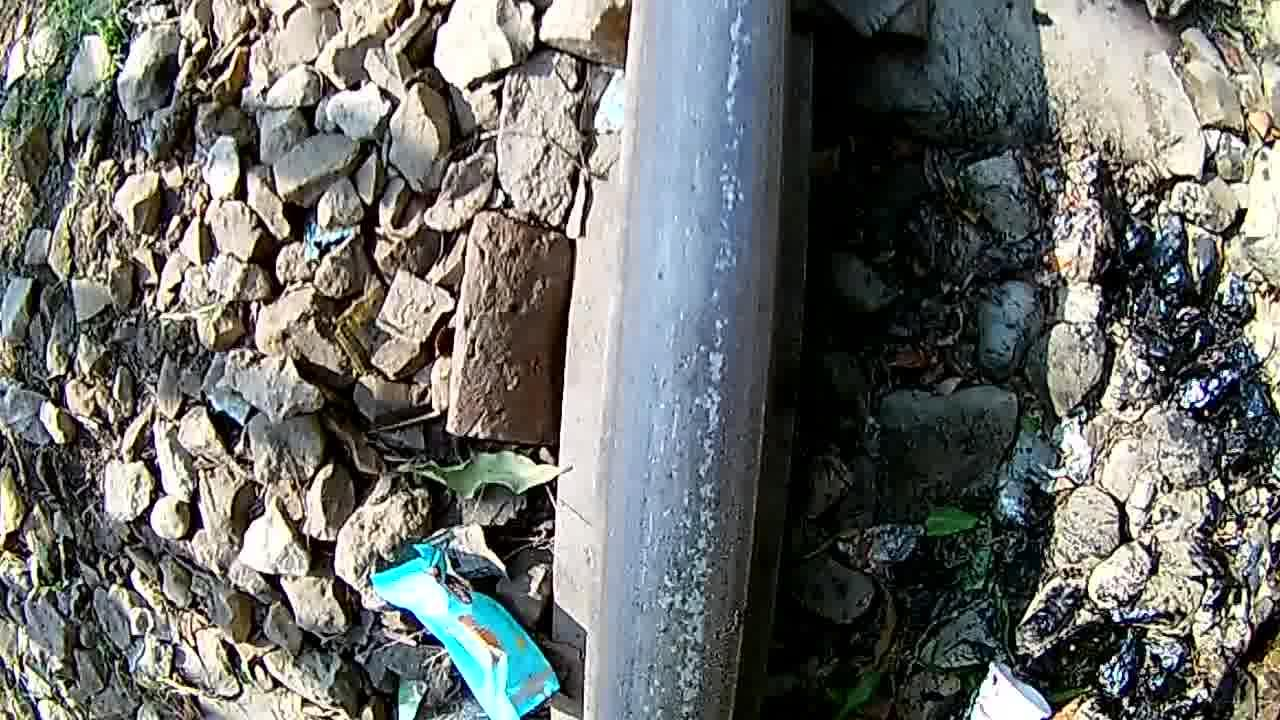clip_missing: (598, 0, 788, 720)
